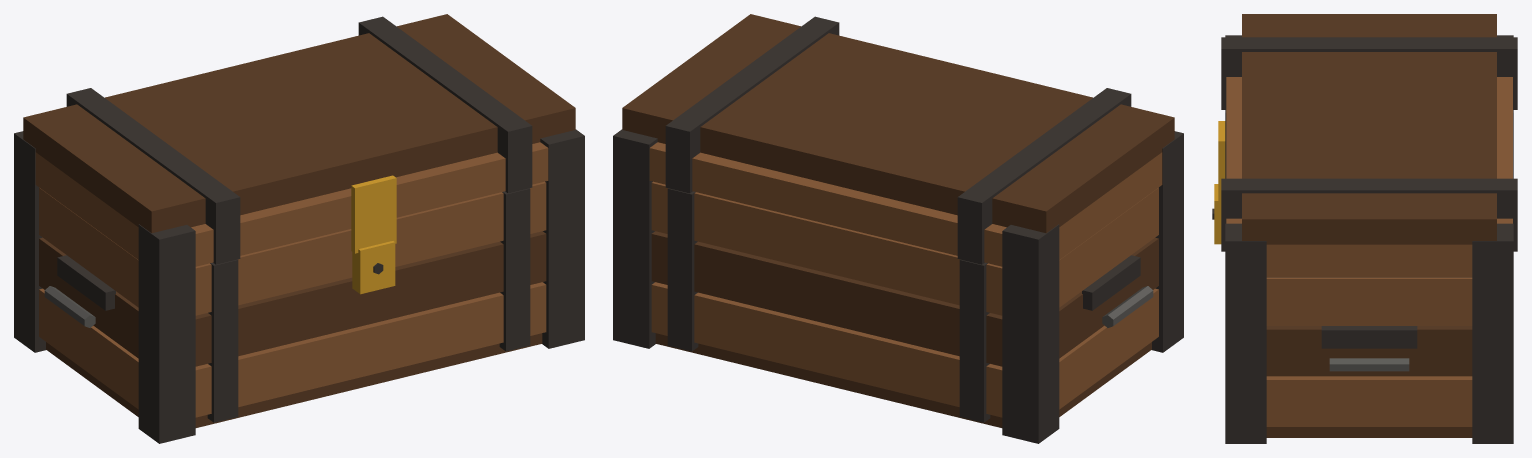
File: storage_chest.glb
3 renders of one model, left to right at view 1: azimuth 30°, elevation 25°; view 2: azimuth 150°, elevation 25°; view 3: azimuth 270°, elevation 25°, orthographic.
Parts seen in each view (by area): view 1: storage_chest; view 2: storage_chest; view 3: storage_chest.
Part boxes in pixels (left/top/right/bottom): storage_chest: left=14, top=14, right=584, bottom=443; storage_chest: left=613, top=14, right=1183, bottom=443; storage_chest: left=1212, top=14, right=1517, bottom=443.
Bounding box in the file's own units: 1.35 × 0.6295 × 0.767.
